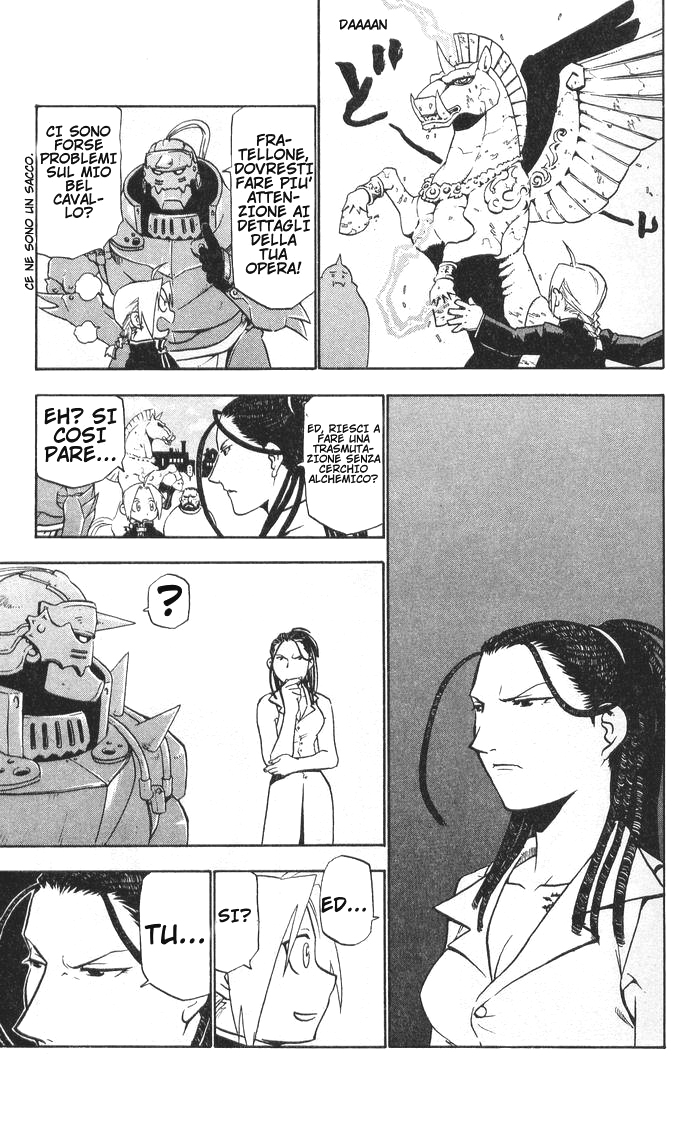Baloon: (231, 104, 315, 306), (40, 111, 119, 259), (303, 395, 381, 533), (141, 871, 212, 997), (36, 394, 126, 487), (315, 856, 378, 945), (214, 870, 259, 973), (148, 570, 191, 628)
Vignetta: (393, 394, 664, 1049), (319, 2, 660, 370), (1, 561, 386, 841), (36, 104, 315, 368), (34, 399, 386, 535), (1, 871, 217, 1050), (214, 870, 388, 1051)
